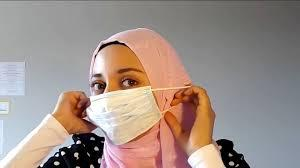Wearing Mask: (68, 14, 185, 151)
